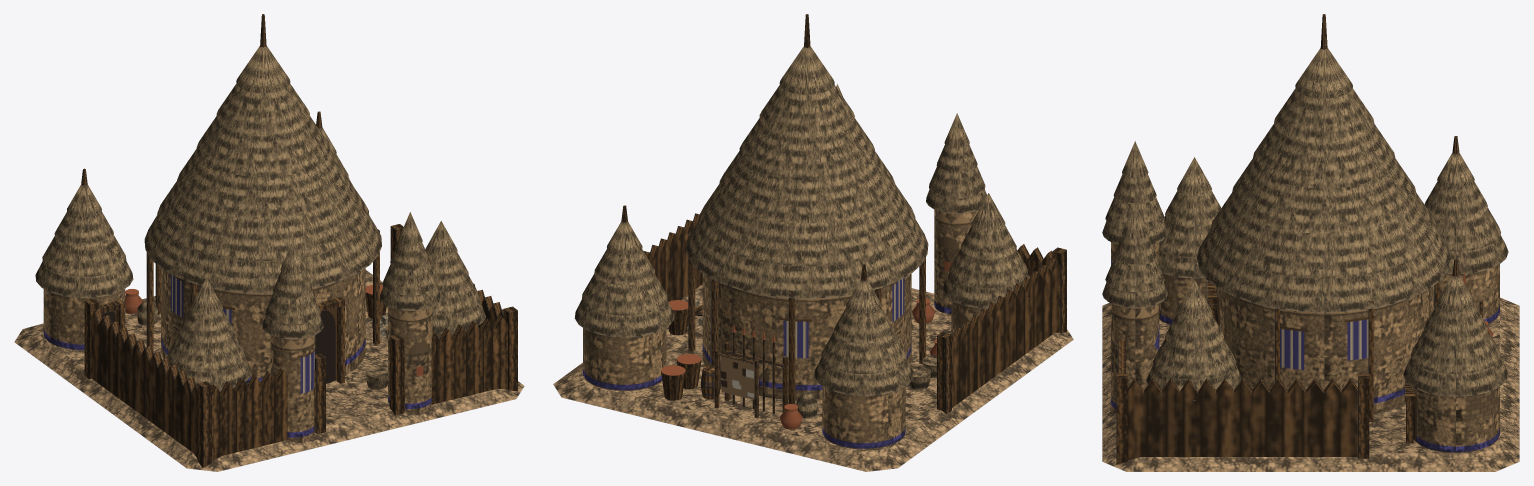
File: africantowncentersubsaharan.glb
The picture shows the model from 3 angles, left to right: view 1: azimuth 30°, elevation 25°; view 2: azimuth 150°, elevation 25°; view 3: azimuth 270°, elevation 25°; orthographic projection. The views are drawn at different scales.
Parts seen in each view (by area): view 1: AfricanTownCenterSubSaharan; view 2: AfricanTownCenterSubSaharan; view 3: AfricanTownCenterSubSaharan.
Part boxes in pixels (<box>): AfricanTownCenterSubSaharan: <box>14,14,524,471</box>; AfricanTownCenterSubSaharan: <box>553,14,1073,471</box>; AfricanTownCenterSubSaharan: <box>1102,14,1519,471</box>.
Size of the model in its own units: 16.16 by 15.76 by 16.16.
Materials: 1 (1 with a texture image).
